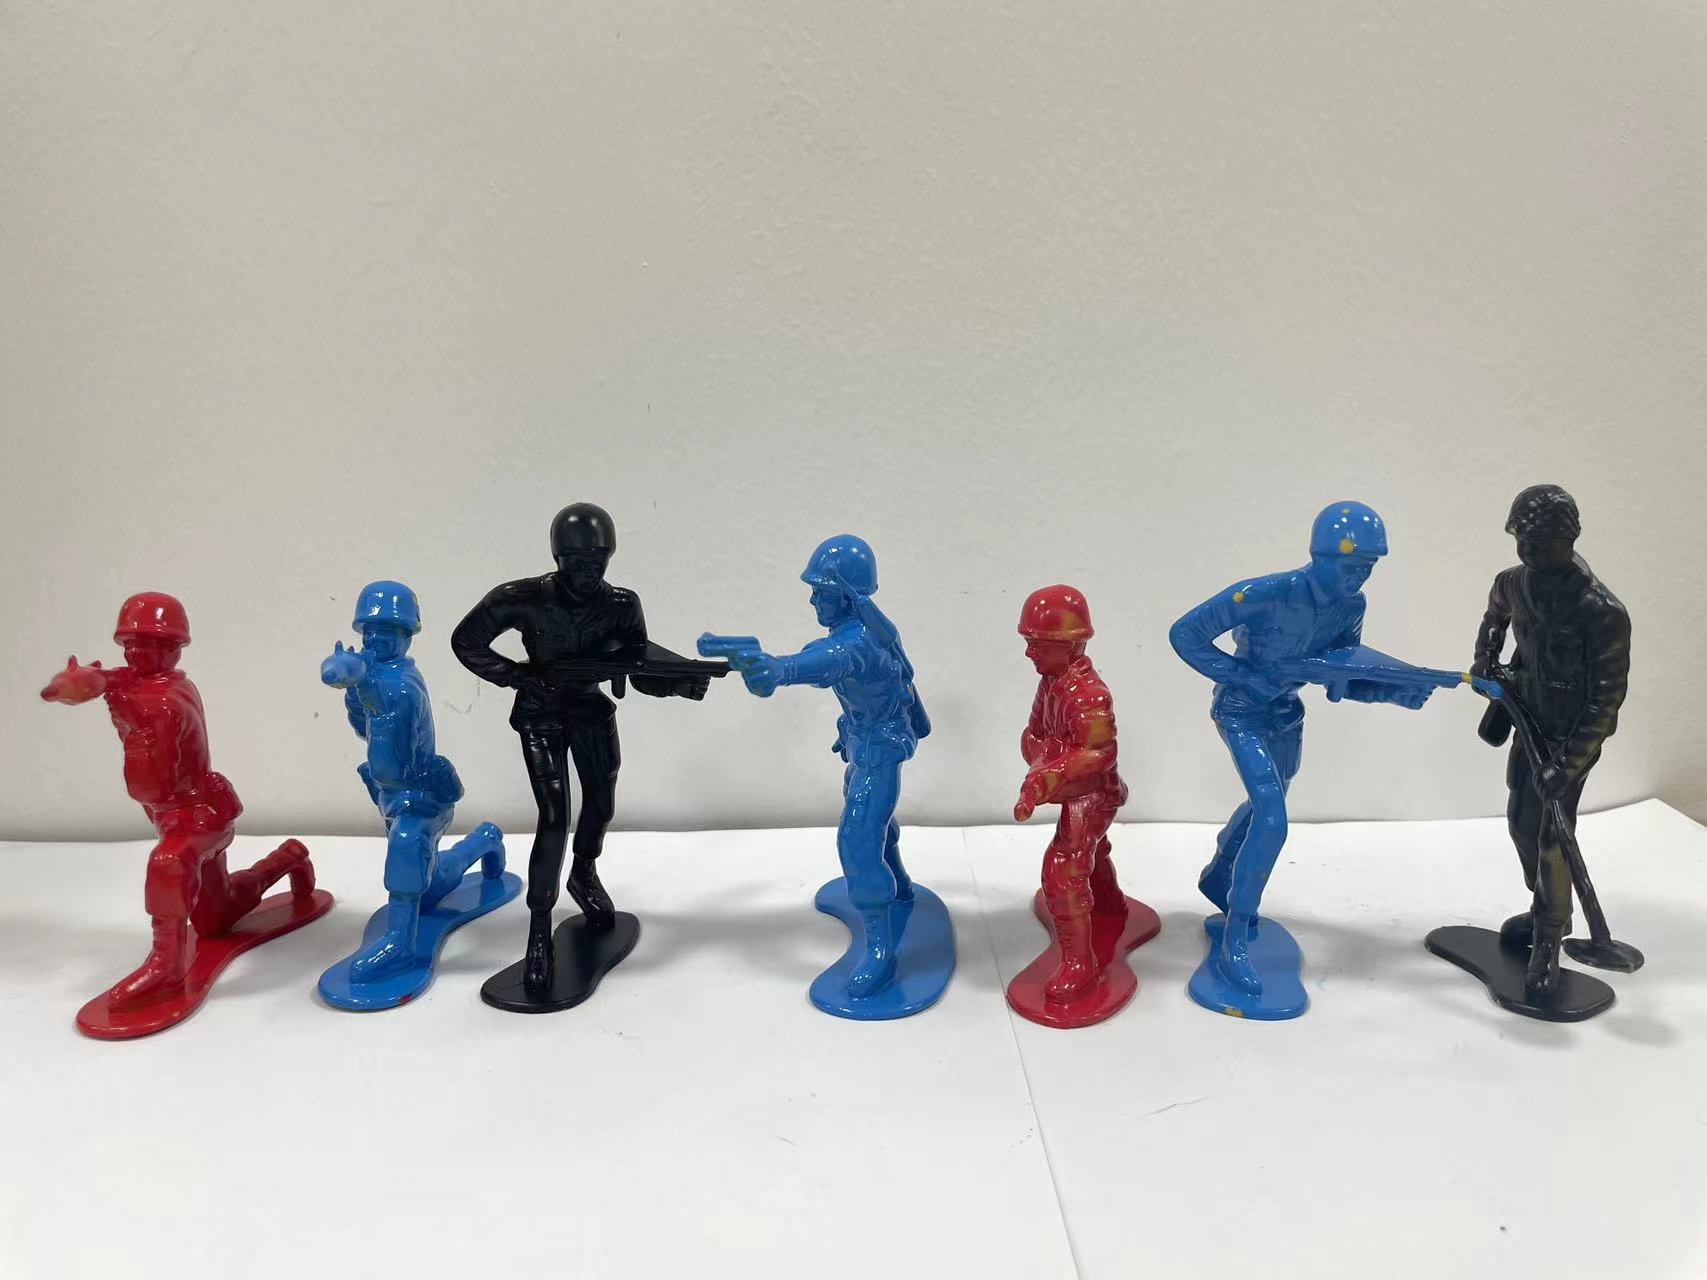black: (452, 473, 719, 1059), (1427, 463, 1677, 1059)
blue: (1151, 481, 1435, 1047), (694, 507, 966, 1050), (284, 558, 478, 1033)
red: (1, 573, 310, 1065), (950, 575, 1171, 1064)
